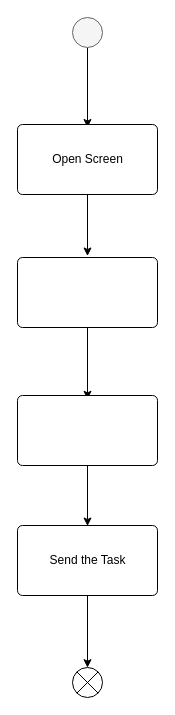
The diagram is 175 pixels wide and 715 high, and some of its shapes have lost their labels. The box of each missing label's shape, as (x1, y1, x2, y2) in pixels:
Choose subject: (16, 256, 158, 328)
Upload task: (16, 394, 158, 466)
